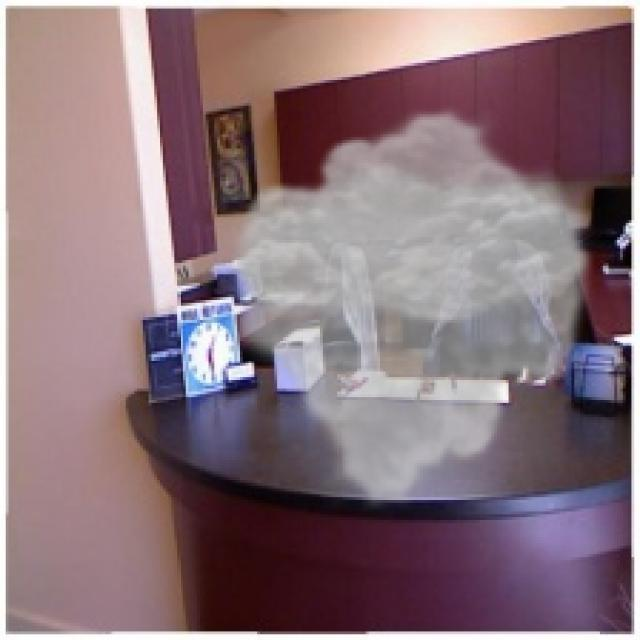Smoke: (223, 106, 600, 512)
